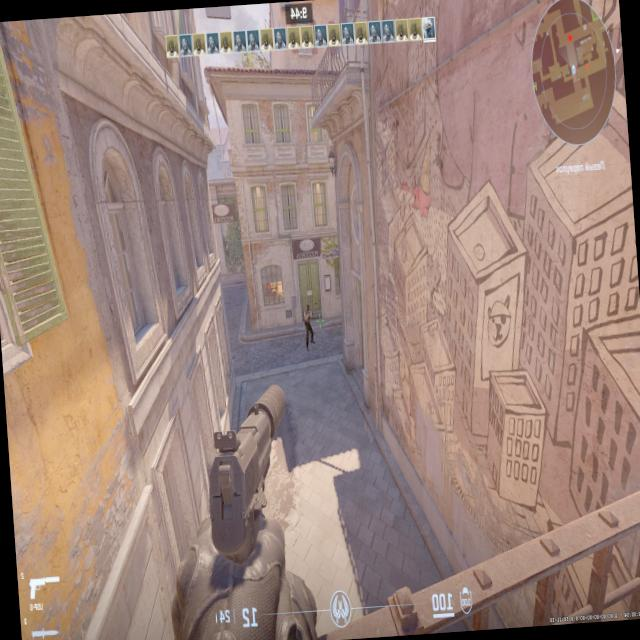T: (301, 303, 313, 347)
T_heat: (305, 306, 310, 314)
